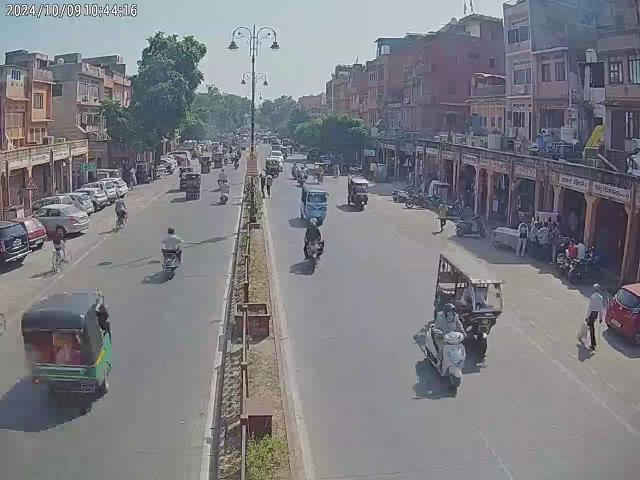auto: (20, 289, 114, 413), (434, 252, 506, 350), (300, 184, 328, 222), (346, 175, 369, 211), (180, 170, 202, 200)
bicycle-rider: (51, 226, 72, 271), (114, 193, 129, 230)
car: (66, 170, 127, 218), (0, 208, 48, 263), (30, 197, 90, 239), (606, 278, 640, 346)
helmet: (442, 302, 456, 318), (167, 226, 177, 236)
motorbike: (567, 253, 604, 282), (404, 191, 430, 208)
motorbike-rider: (303, 217, 326, 266)
person: (586, 282, 606, 352), (516, 216, 533, 260), (538, 218, 553, 259), (258, 170, 272, 198)
scooty: (454, 212, 486, 240)
scooty-rider: (418, 298, 466, 390), (160, 224, 183, 277), (218, 179, 230, 203)
